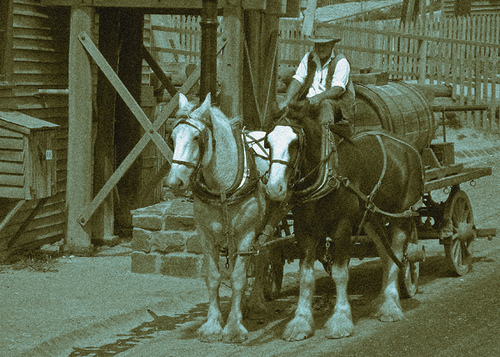horse: (259, 93, 431, 343), (162, 90, 290, 347)
